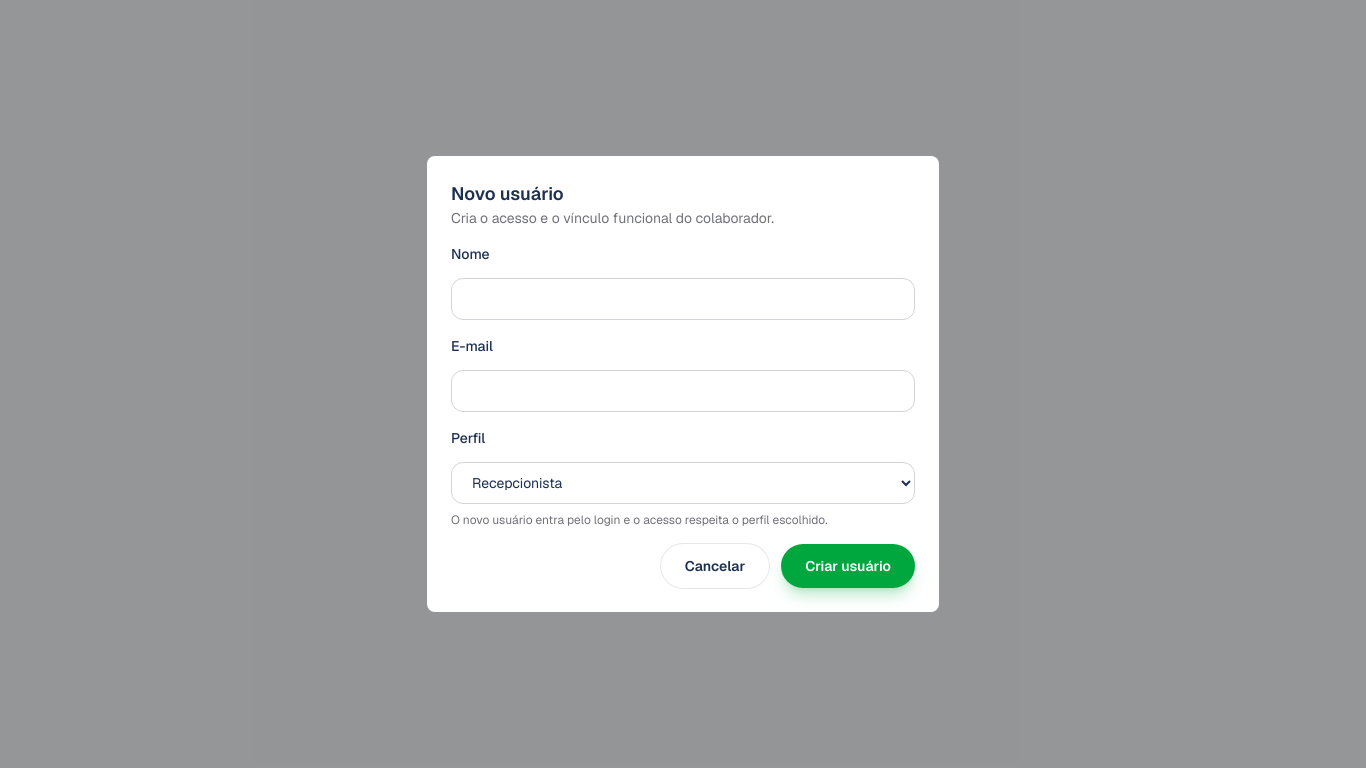
Test: NovoUsuarioForm — envio e feedback › envia os dados à action (sem auth_user_id vindo do cliente) e mostra sucesso
Type "Ana Souza" into the field labelled "Nome" at (683, 299), box 451,278 -> 915,320
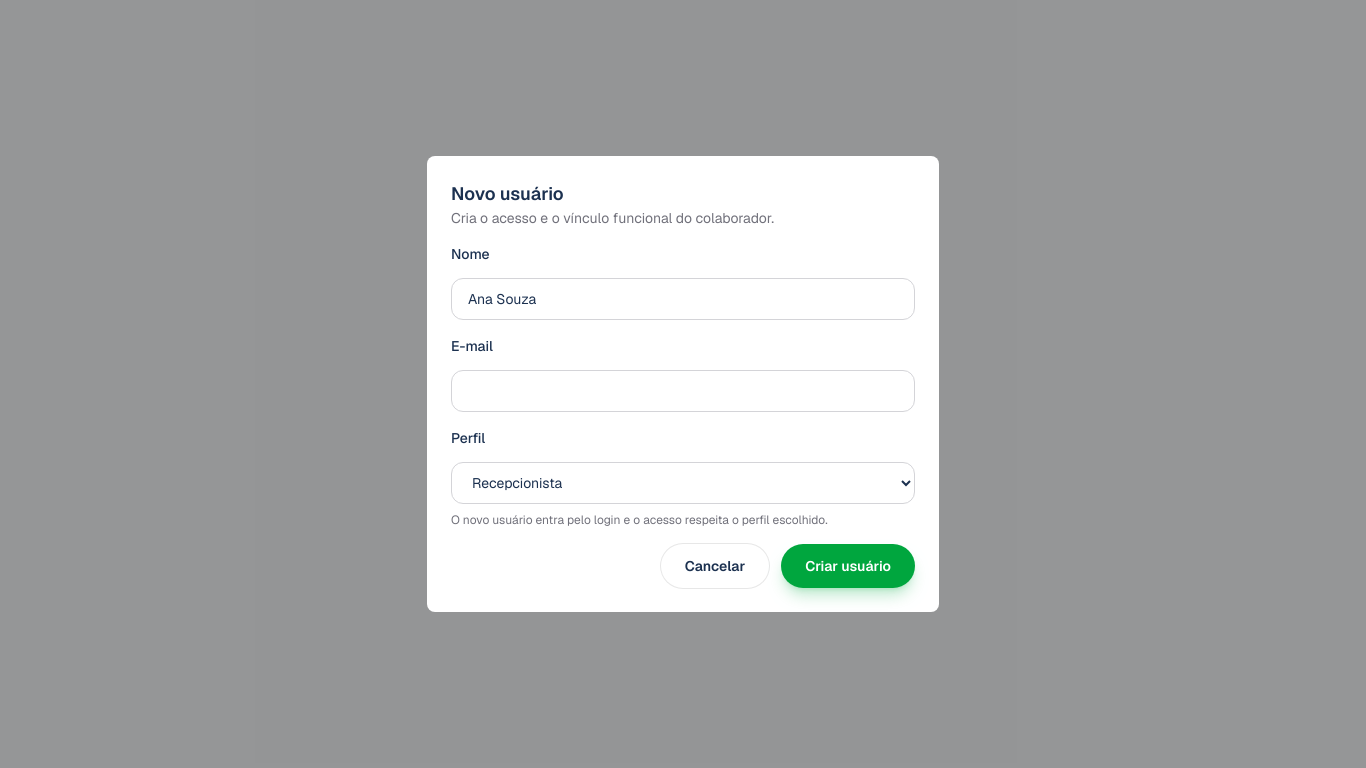
Type "ana@example.com" into the field labelled "E-mail" at (683, 391), box 451,370 -> 915,412
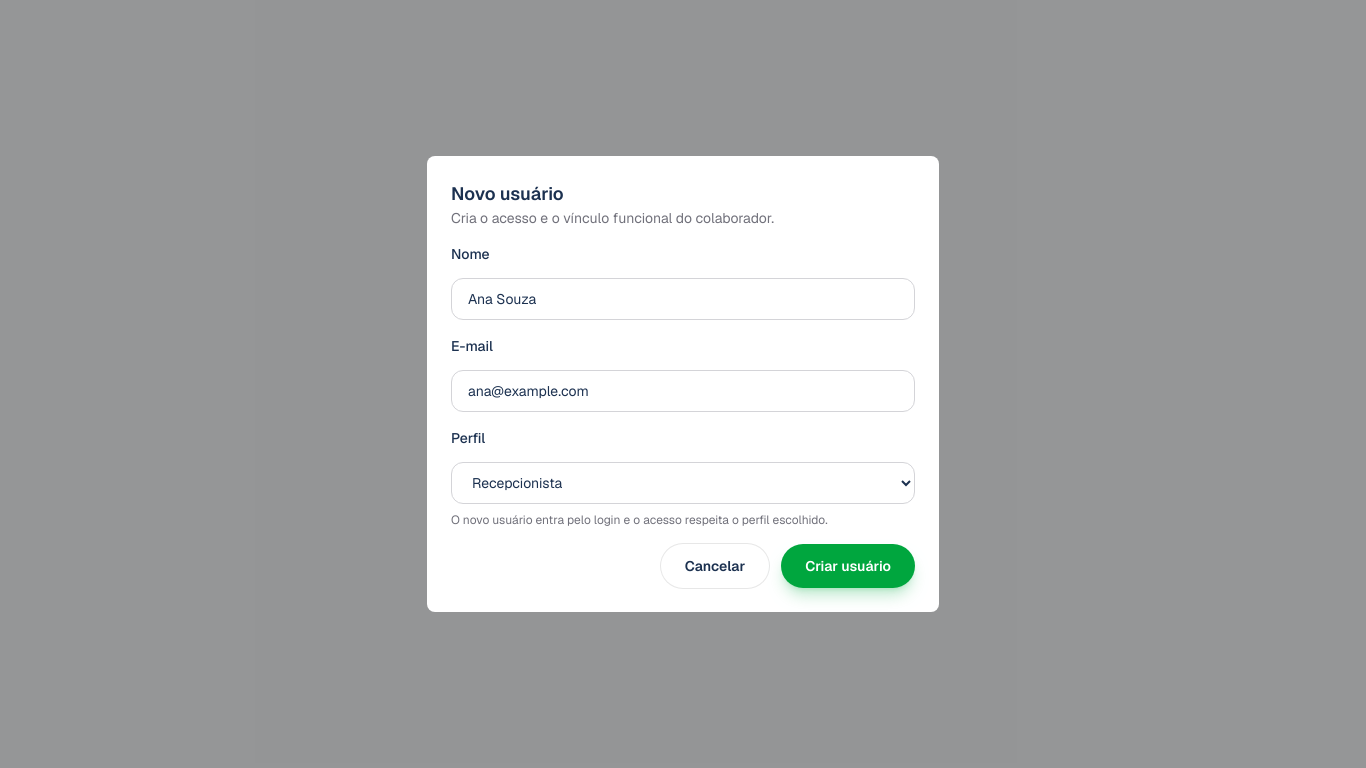
Click the button "Criar usuário" at (848, 566), box 781,544 -> 915,588
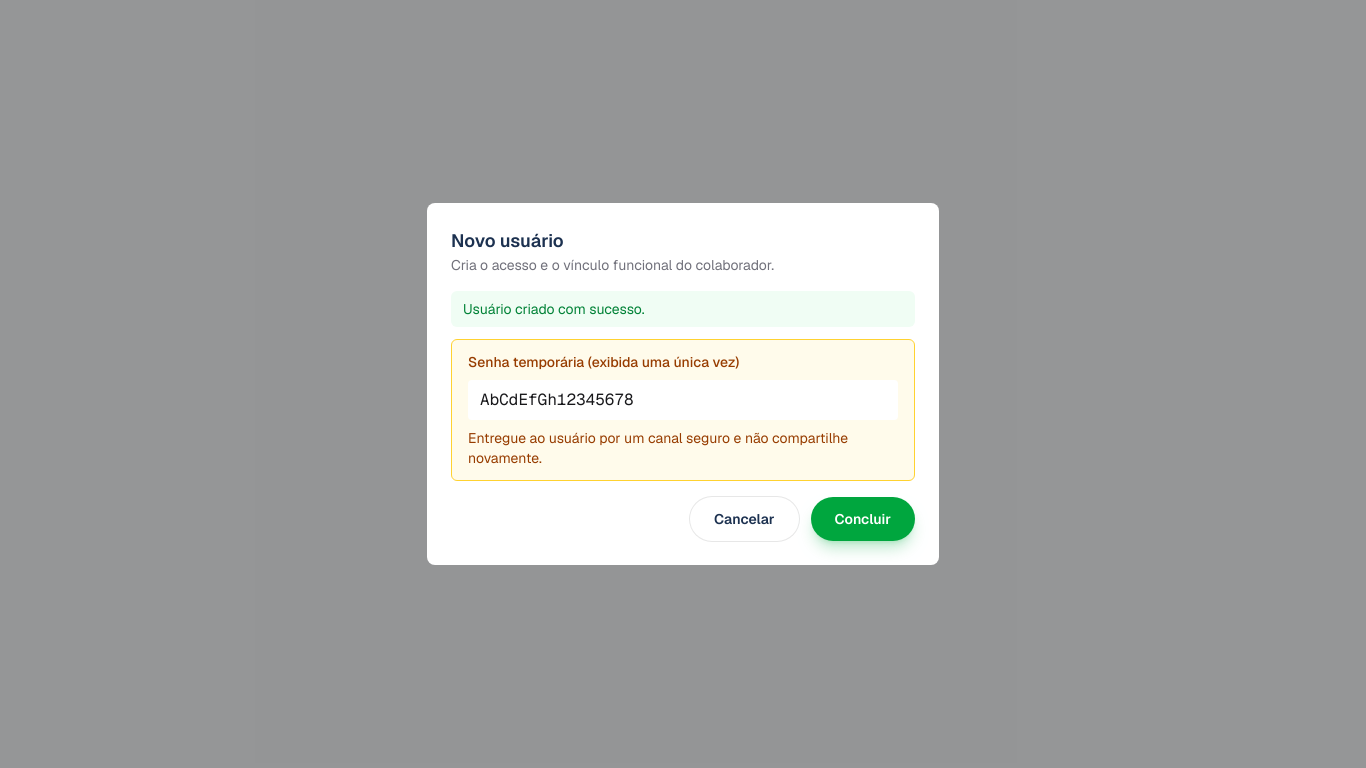
Result: the text "Usuário criado com sucesso." is shown at 451,291 -> 915,327
Result: the text "AbCdEfGh12345678" is shown at 468,380 -> 898,420
Result: the text "Senha temporária (exibida uma única vez)" is shown at 468,353 -> 739,371
